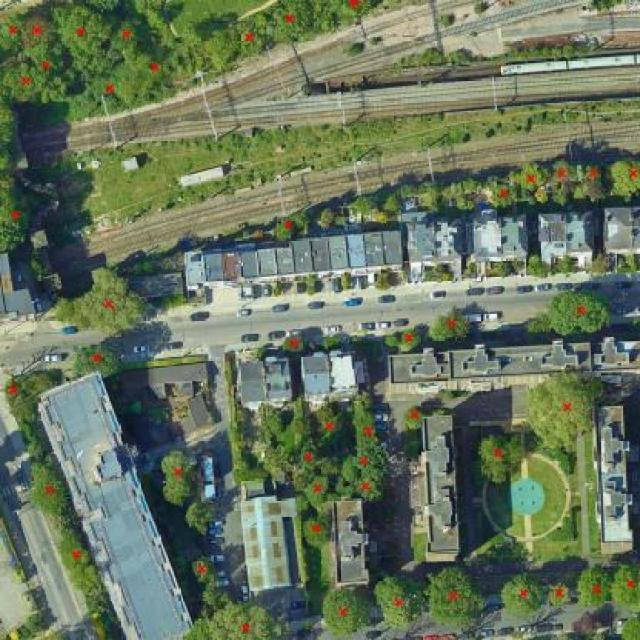tree: (49, 262, 163, 346), (524, 370, 613, 462), (542, 280, 618, 346), (178, 597, 291, 640), (423, 558, 489, 631), (51, 5, 117, 77), (0, 163, 46, 260), (472, 424, 532, 498), (148, 439, 206, 513), (367, 567, 428, 636), (0, 63, 71, 114), (24, 456, 76, 522), (22, 48, 84, 101), (316, 580, 370, 640), (62, 339, 133, 384), (131, 46, 186, 103), (183, 28, 243, 79), (0, 89, 32, 184), (494, 568, 546, 624), (266, 0, 323, 48), (425, 305, 481, 353), (229, 14, 277, 68), (296, 463, 339, 523), (345, 390, 387, 450), (600, 149, 640, 208), (50, 525, 95, 577), (105, 20, 159, 63), (268, 204, 322, 247), (89, 73, 138, 118), (576, 560, 616, 615), (319, 0, 385, 31), (509, 154, 552, 201), (334, 473, 389, 509), (179, 496, 222, 542), (336, 445, 392, 480), (182, 550, 224, 592), (483, 172, 522, 217), (612, 558, 639, 619), (310, 404, 345, 451), (19, 12, 59, 52), (275, 326, 313, 368), (286, 436, 326, 475), (346, 190, 391, 224), (543, 572, 577, 617), (299, 513, 336, 553), (401, 395, 433, 440), (75, 0, 137, 23), (543, 155, 580, 193), (518, 314, 554, 352), (0, 9, 26, 60), (0, 370, 31, 408), (579, 0, 632, 22), (391, 325, 426, 356), (577, 155, 608, 183), (615, 609, 640, 640), (440, 174, 462, 205), (321, 333, 345, 358), (396, 180, 419, 203), (453, 199, 478, 216), (459, 176, 484, 193)
